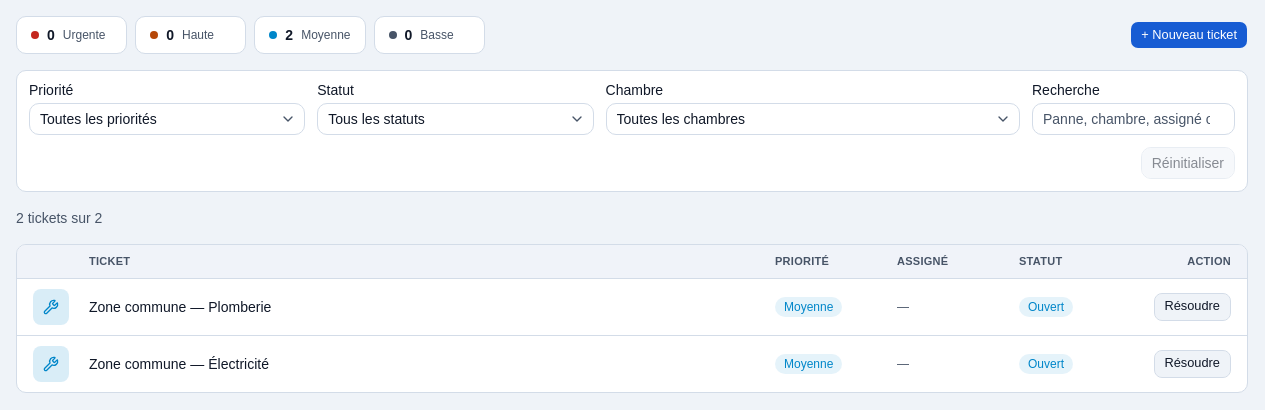
Test: MaintenancePage — filtres et compteurs › recherche un ticket par son identifiant
The width and height of the screenshot is (1265, 410).
Expected: the text "2 tickets sur 2" is shown, [16,210,102,226]
Type "42" into the search field labelled "Recherche". click: (1134, 119)
box: [1032,103,1235,135]
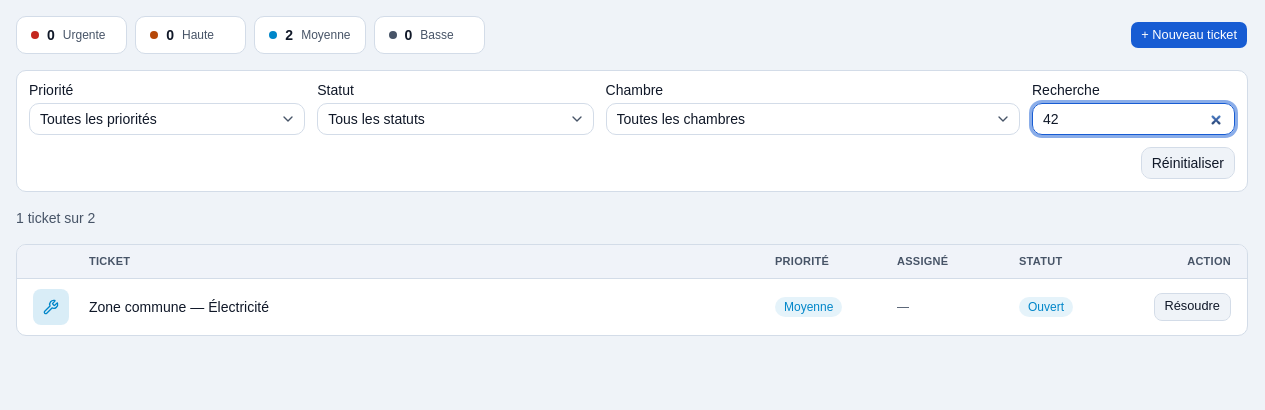
Expected: the button with aria-label "Voir le détail du ticket 42" is shown, [208,296,269,316]
Now the text "1 ticket sur 2" is shown, box [16,210,95,226]
